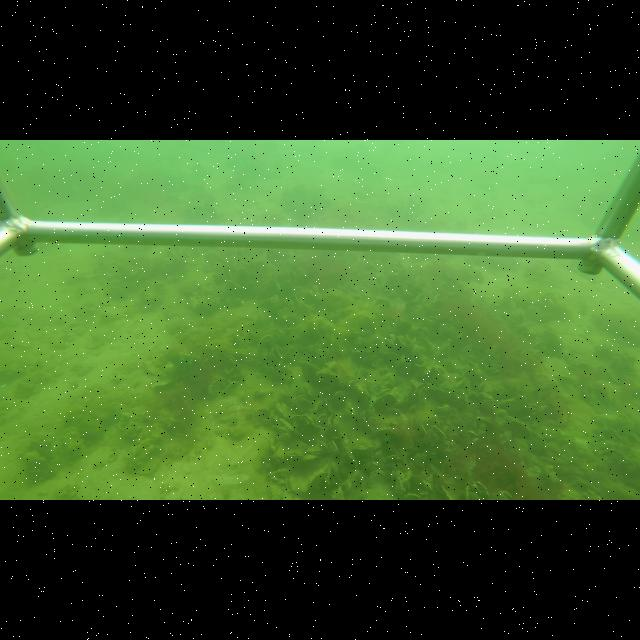Oyster-Closed: (350, 383, 373, 413), (373, 392, 398, 413), (341, 435, 358, 465), (317, 370, 339, 391), (286, 414, 315, 428), (291, 398, 313, 412), (395, 360, 412, 378), (221, 381, 238, 397), (284, 449, 306, 460), (350, 349, 365, 363), (353, 443, 375, 451), (331, 440, 341, 457), (327, 441, 331, 458)
Oyster-Open: (428, 426, 447, 444), (325, 413, 342, 433), (271, 344, 286, 363), (304, 447, 326, 456), (315, 413, 328, 424)
